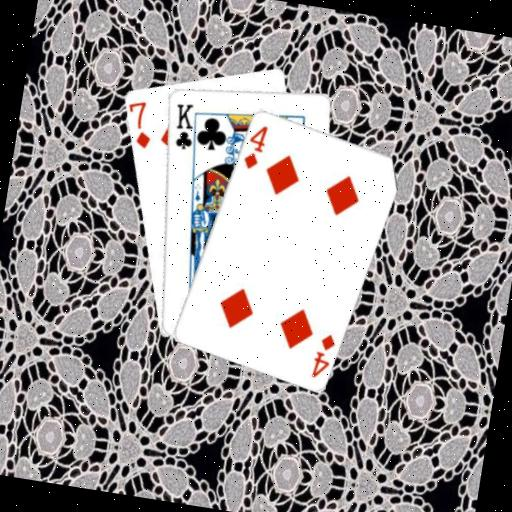4D: (239, 119, 270, 172), (307, 328, 338, 381)
7D: (120, 96, 157, 151)
KC: (166, 98, 204, 156)
